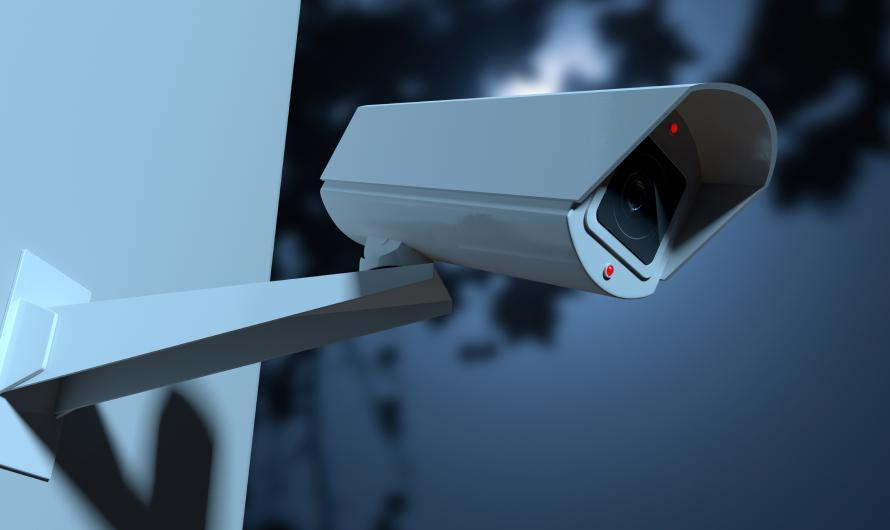camera: (319, 39, 791, 369)
